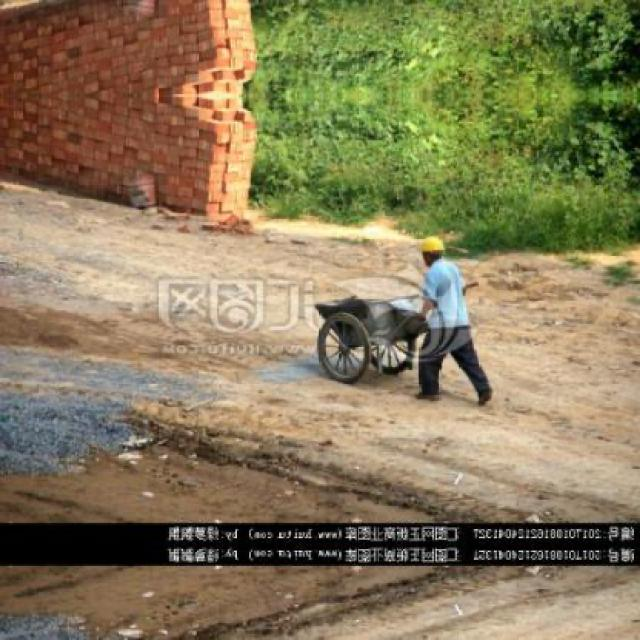con casco: (402, 224, 470, 273)
